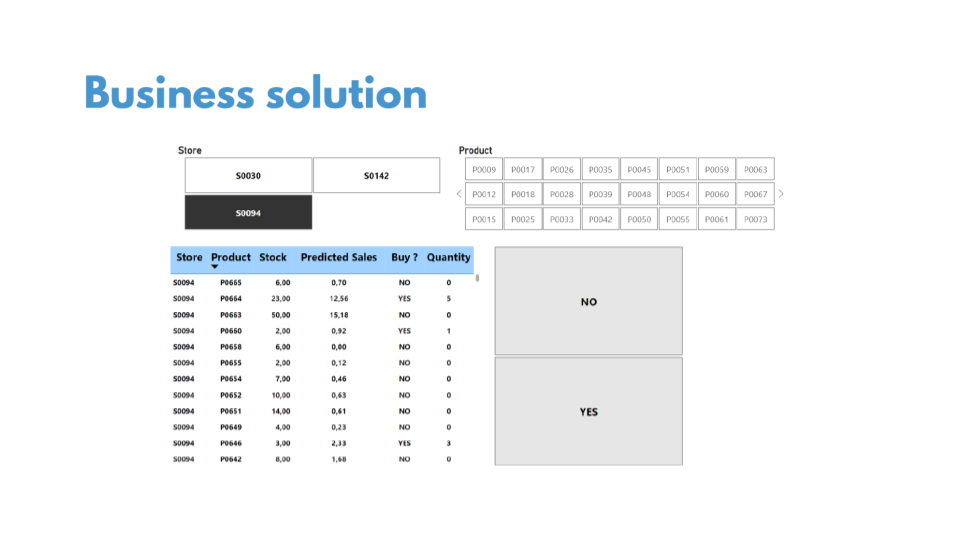

What the dashboard file says about the page in this screenshot:
{"tool":"powerbi","page":{"name":"Page 1","canvas":[1280,720],"ordinal":0},"visuals":[{"type":"tableEx","fields":{"Values":["Total.store_id","Total.product_id","Total.current_stock","Total.predicted_sales","Total.need_buy","Total.quant_needed"]},"box":[18.9,232.5,627.2,448.1],"z":0},{"type":"slicer","fields":{"Values":["Total.store_id"]},"box":[27.6,30,559.3,181.5],"z":1000},{"type":"slicer","fields":{"Values":["Total.product_id"]},"box":[586.4,30,666.4,181.8],"z":2000},{"type":"slicer","fields":{"Values":["Total.need_buy"]},"box":[645.5,232.2,424.4,448.9],"z":4000}]}

Visuals, with their boxes in screenshot pixels (x1, y1, x2, y2), scaled from the page's 1280x720 canvas onto the 960x540 screenshot:
tableEx - Total.store_id x Total.product_id: x1=14 y1=174 x2=485 y2=510
slicer - Total.store_id: x1=21 y1=22 x2=440 y2=159
slicer - Total.product_id: x1=440 y1=22 x2=940 y2=159
slicer - Total.need_buy: x1=484 y1=174 x2=802 y2=511
